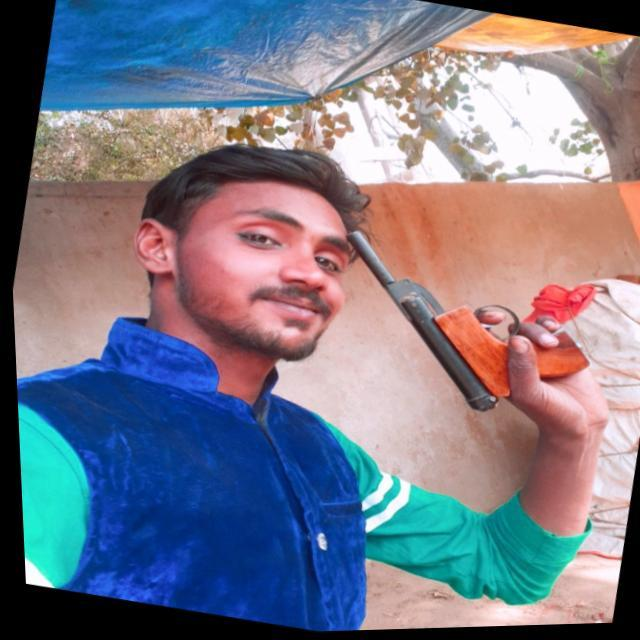weapon: (311, 218, 613, 444)
